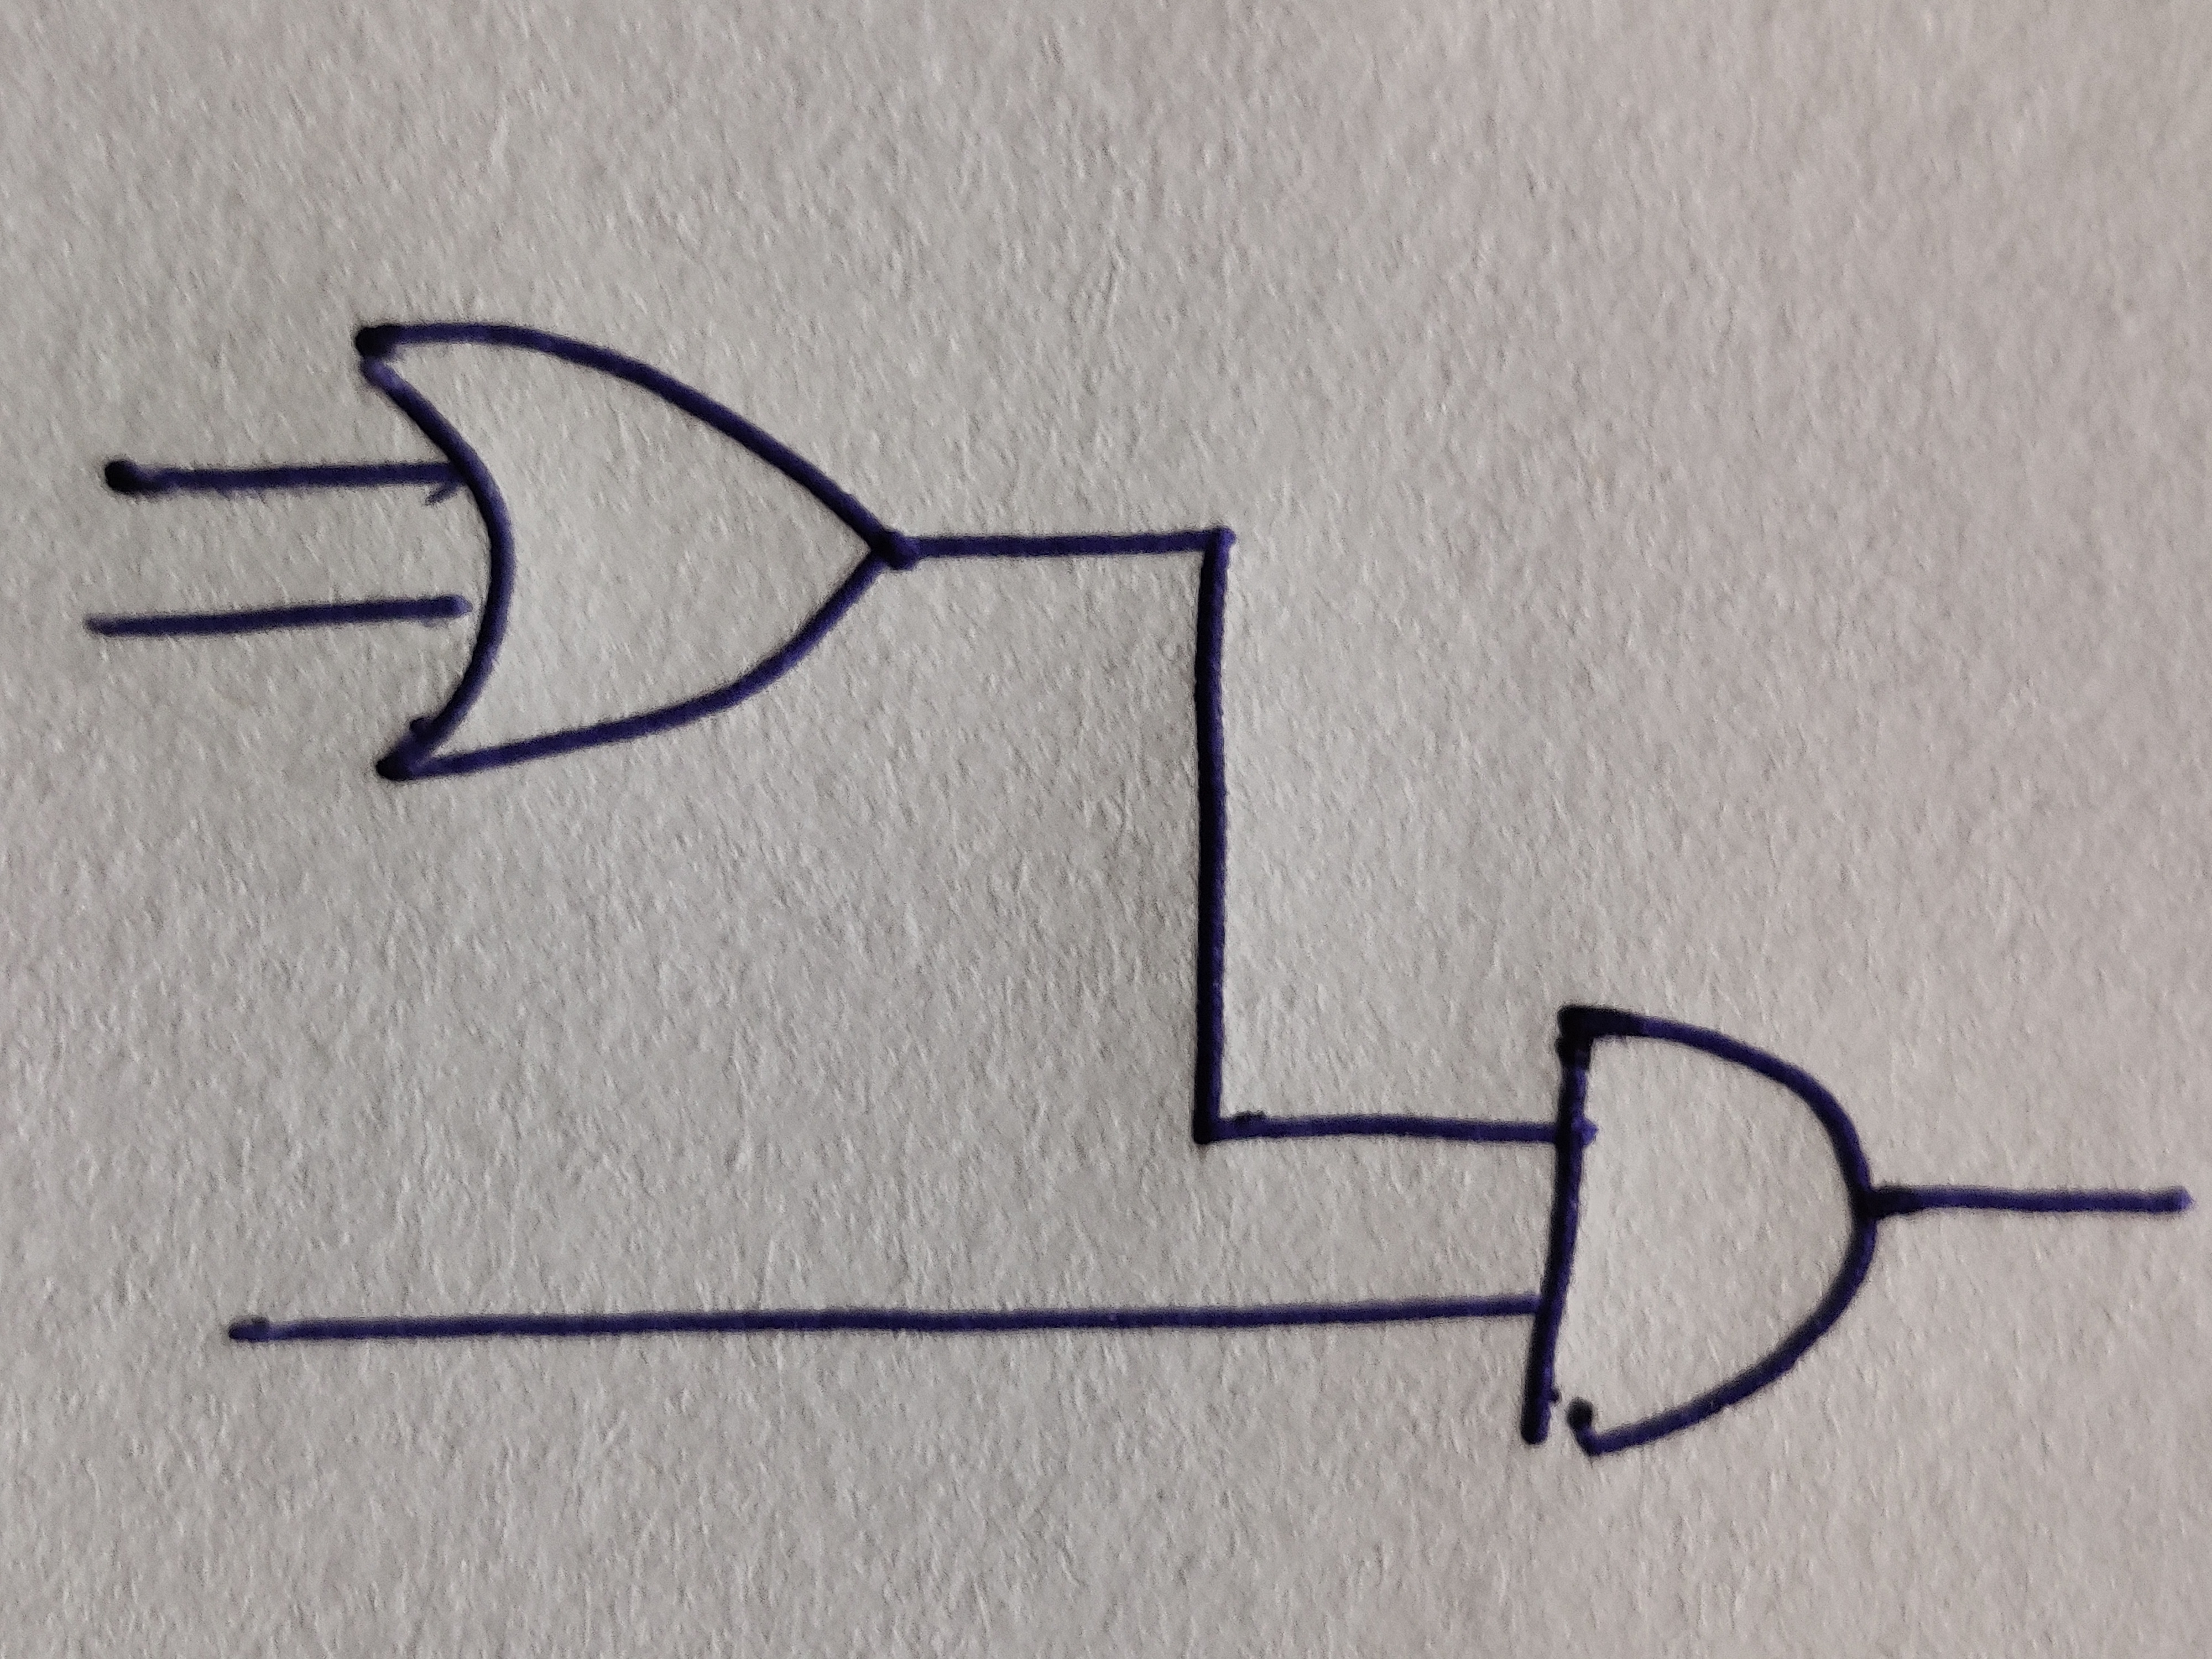and: (1521, 1004, 1874, 1459)
or: (354, 326, 914, 788)
